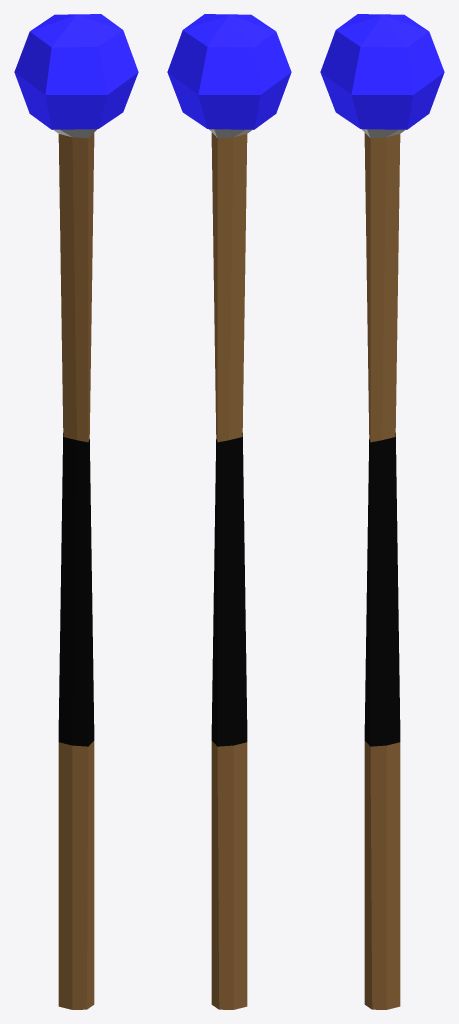
File: thalria_staff.glb
The picture shows the model from 3 angles, left to right: view 1: azimuth 30°, elevation 25°; view 2: azimuth 150°, elevation 25°; view 3: azimuth 330°, elevation 25°; orthographic projection.
Parts seen in each view (by area): view 1: Cube.003; view 2: Cube.003; view 3: Cube.003.
Boxes of the visible parts, bbox=[...] form: Cube.003: bbox=[14, 14, 138, 1009]; Cube.003: bbox=[167, 14, 291, 1009]; Cube.003: bbox=[320, 14, 444, 1009].
Bounding box in the file's own units: 0.1339 × 1.36 × 0.1545.
